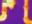Hotspot: (24, 0, 31, 23), (2, 0, 15, 9), (0, 11, 7, 22)
